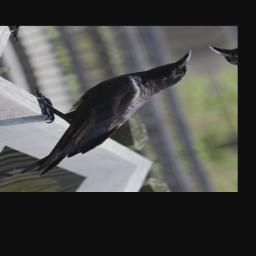Crow: (0, 50, 225, 181)
